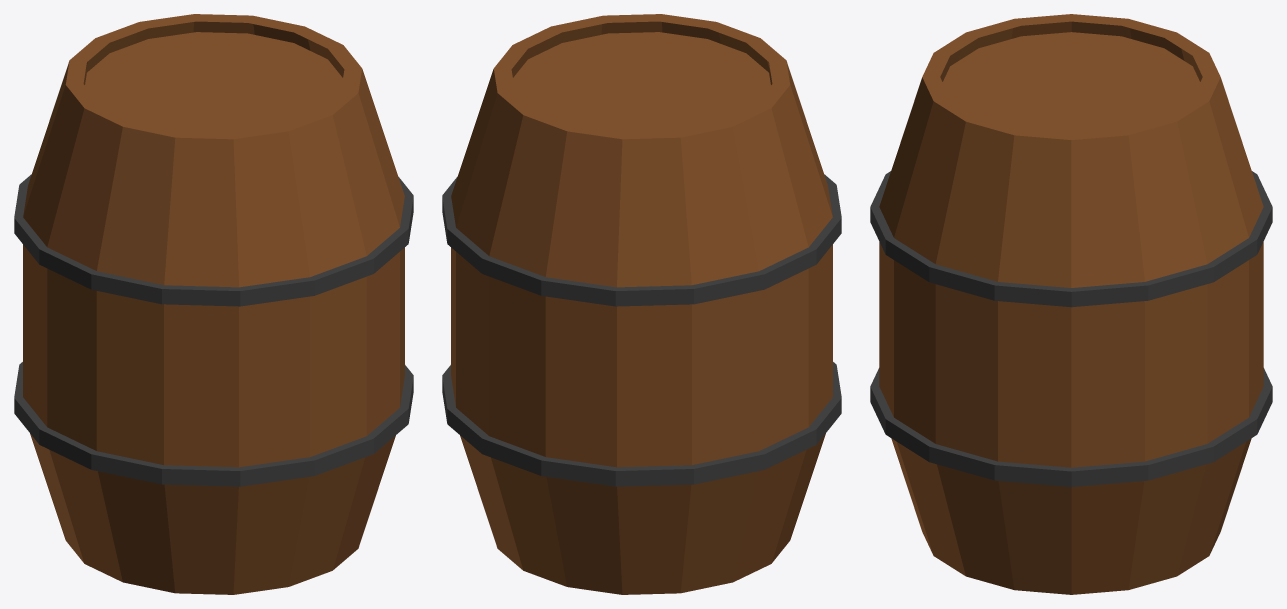
The model's file is barrilfechado.fbx.
The picture shows the model from 3 angles, left to right: view 1: azimuth 30°, elevation 25°; view 2: azimuth 150°, elevation 25°; view 3: azimuth 270°, elevation 25°; orthographic projection.
Visible parts, largest first — view 1: Cylinder; view 2: Cylinder; view 3: Cylinder.
Part boxes in pixels (x1,y1,x2,y2): Cylinder: (14,14,413,594); Cylinder: (442,14,841,594); Cylinder: (870,14,1272,594).
Bounding box in the file's own units: 435 × 543 × 435.
